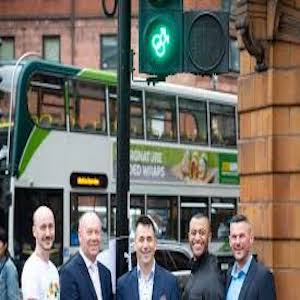green: (145, 25, 174, 65)
